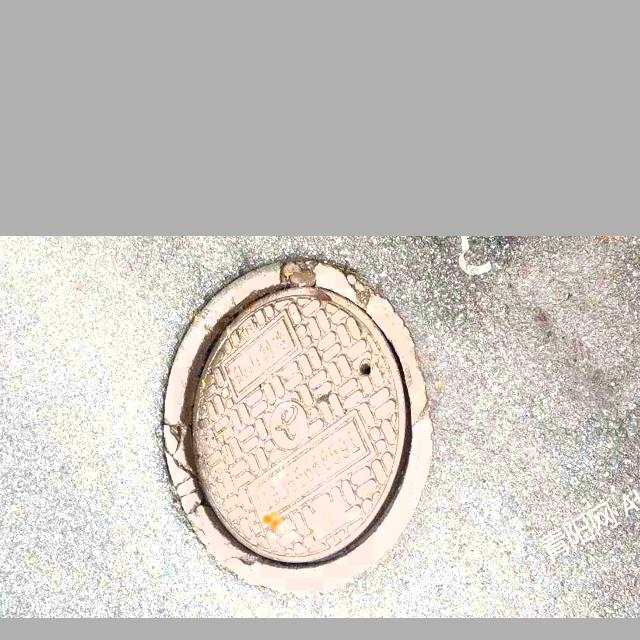circle: (125, 257, 449, 590)
